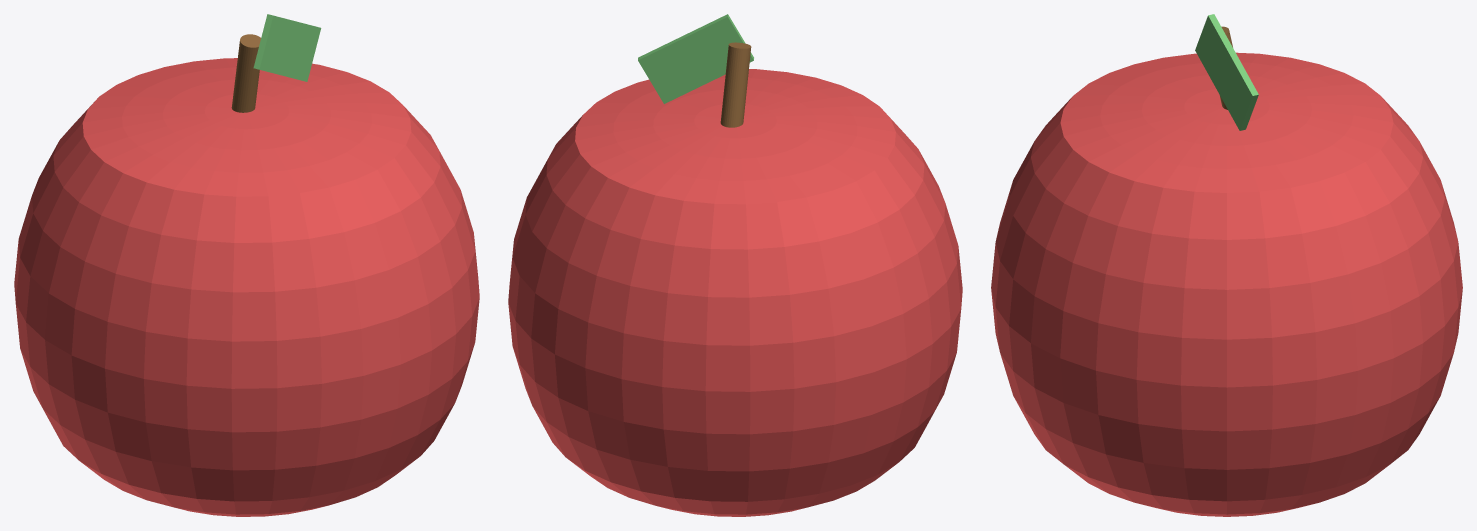
The model's file is apple.fbx.
The picture shows the model from 3 angles, left to right: view 1: azimuth 30°, elevation 25°; view 2: azimuth 150°, elevation 25°; view 3: azimuth 270°, elevation 25°; orthographic projection. The views are drawn at different scales.
Parts seen in each view (by area): view 1: Apple; view 2: Apple; view 3: Apple.
Part boxes in pixels (bbox=[...]): Apple: bbox=[14, 14, 479, 516]; Apple: bbox=[508, 14, 962, 516]; Apple: bbox=[991, 14, 1462, 516].
Bounding box in the file's own units: 2 × 2.24 × 2.
